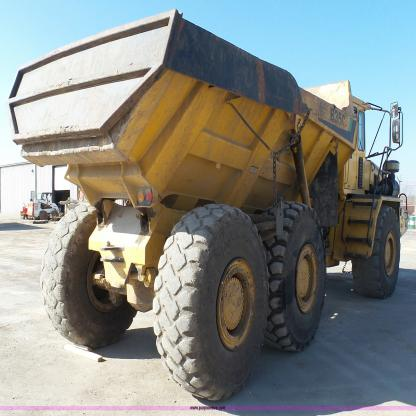dump_truck: (7, 10, 411, 397)
